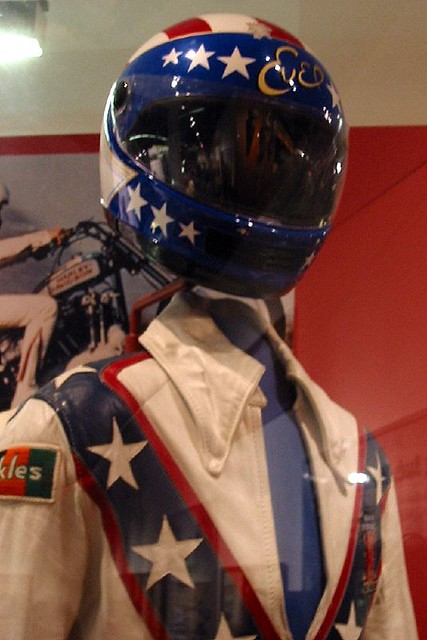helmet: (99, 18, 365, 285)
